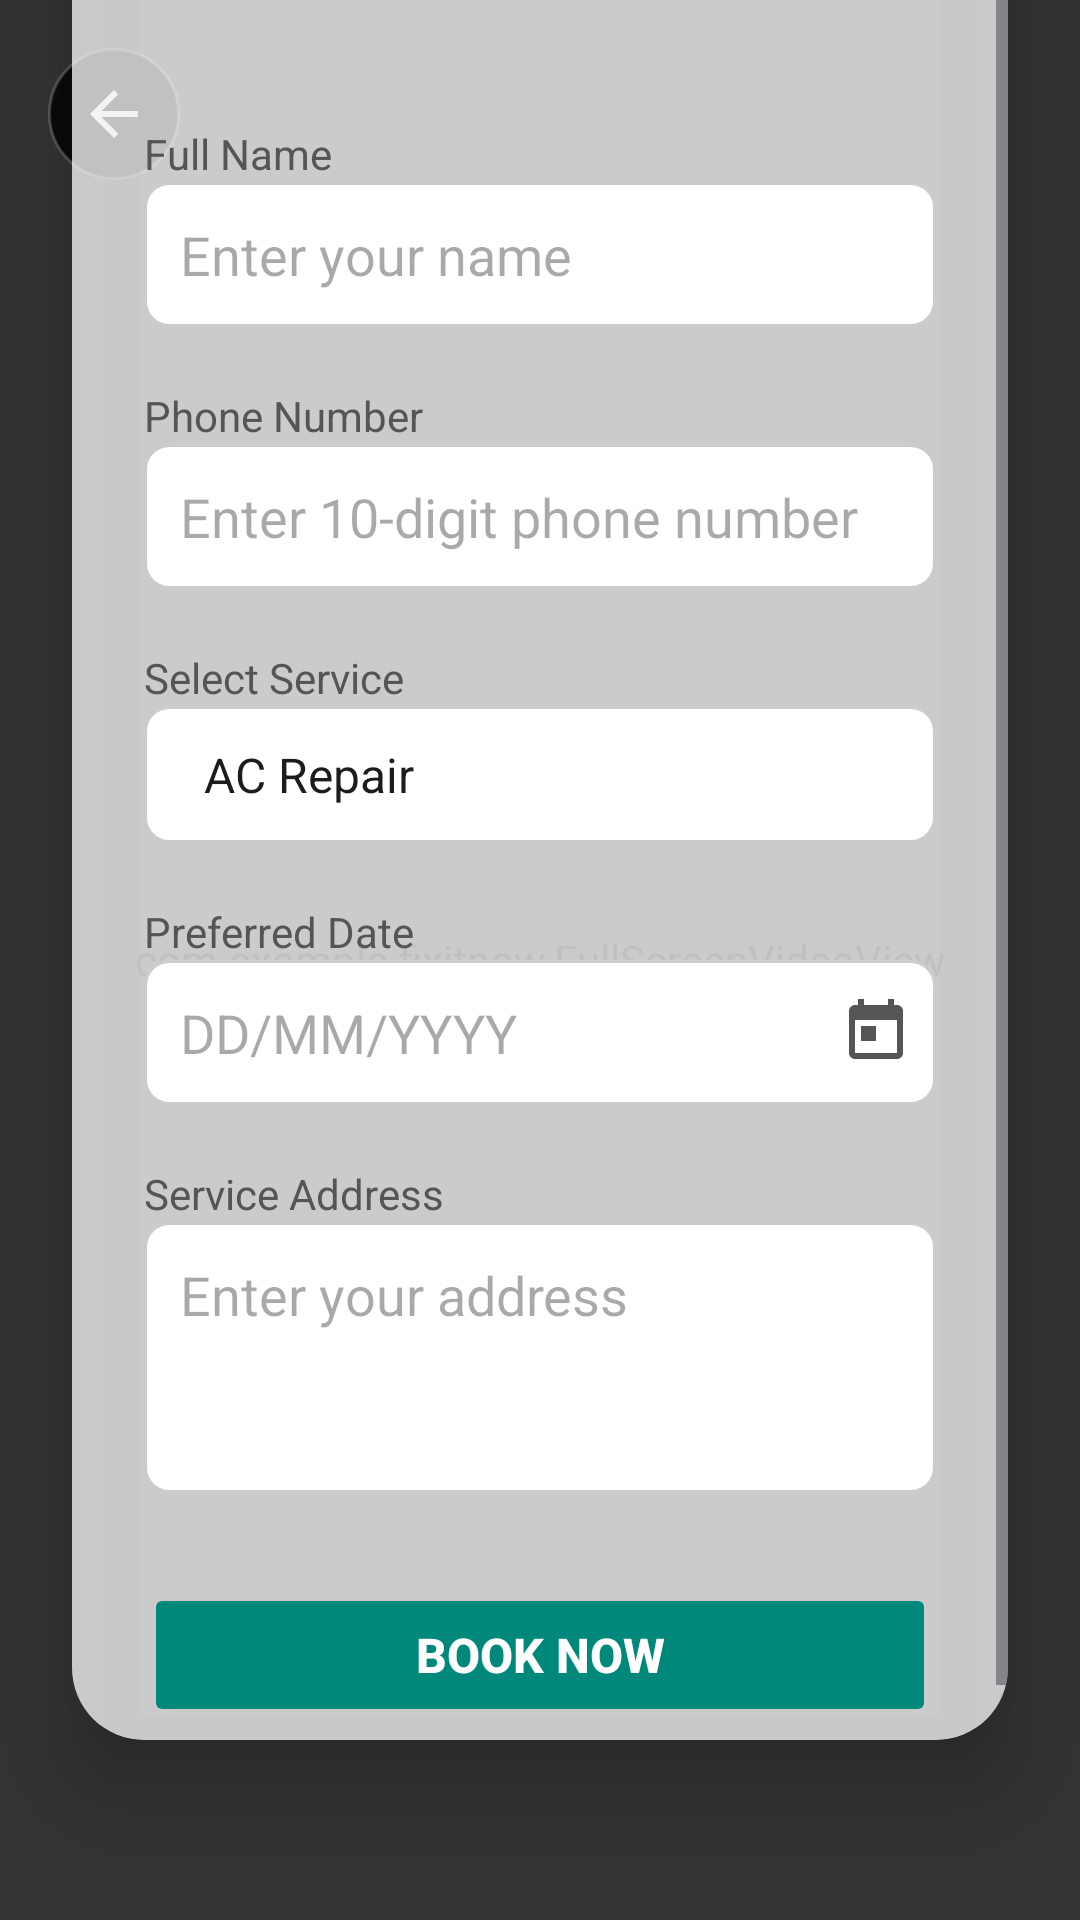

Locate icon controls on the screen. Image size 1080px x 1920px, boxes as (x1=x1, y1=y1, x2=x2, y2=y2).
Back: (x1=48, y1=48, x2=180, y2=180)
calendar: (x1=849, y1=999, x2=903, y2=1059)
